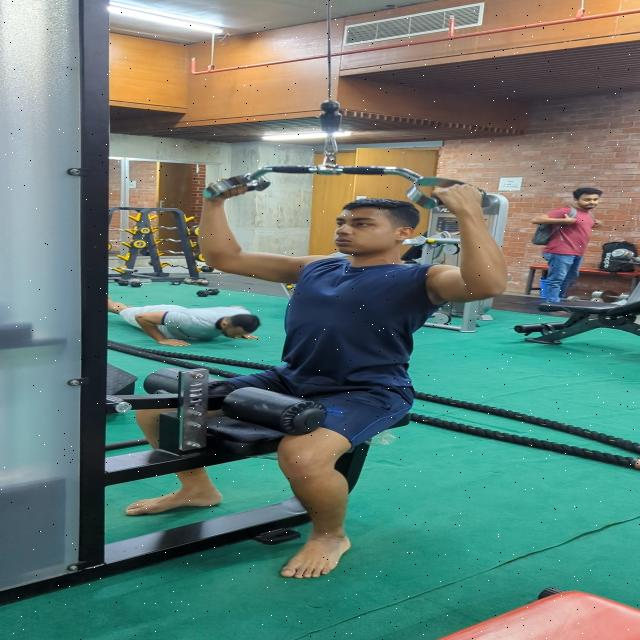Normal_LatPulldown: (125, 164, 512, 594)
